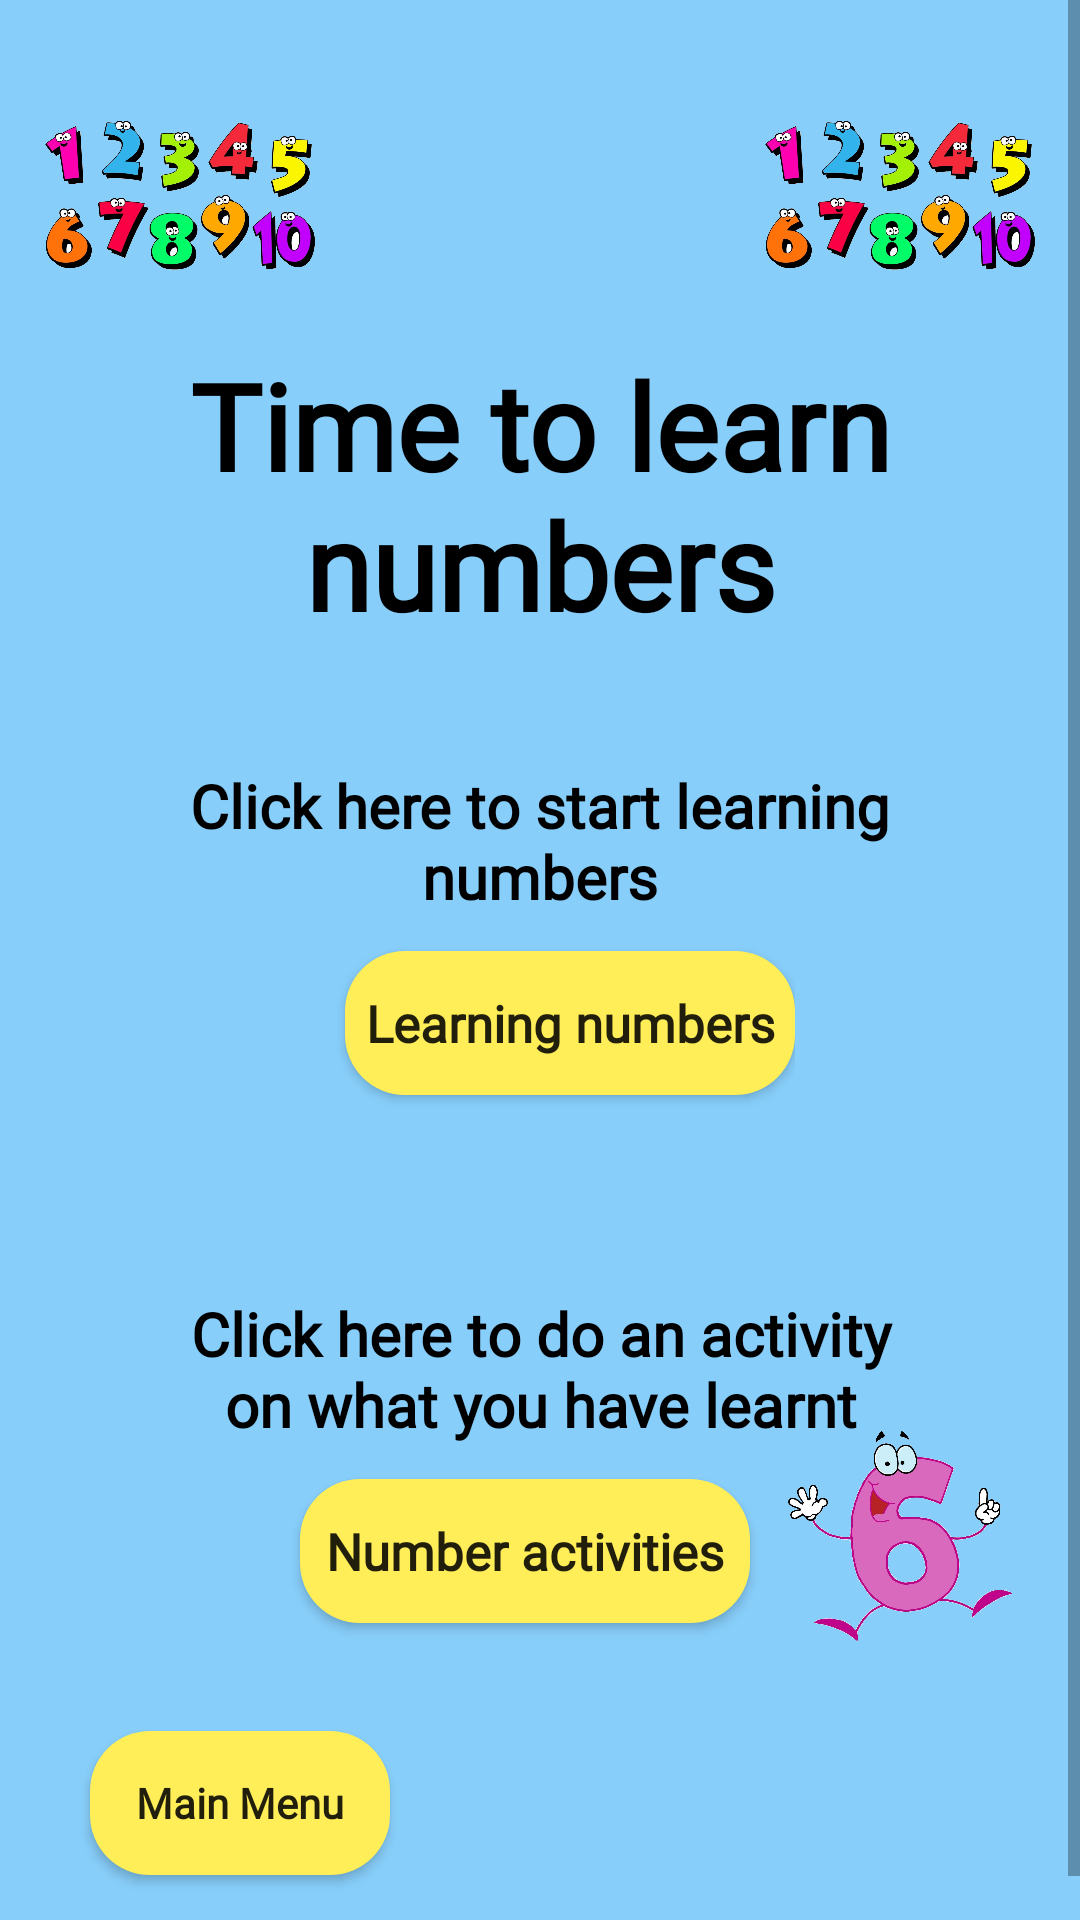

Icon bounding boxes for this 1080w x 1920h phone screenshot, format {"x1": x1, "y1": y1, "x2": x2, "y2": y2}:
numberforpage: {"x1": 45, "y1": 121, "x2": 315, "y2": 270}, {"x1": 765, "y1": 121, "x2": 1035, "y2": 270}
